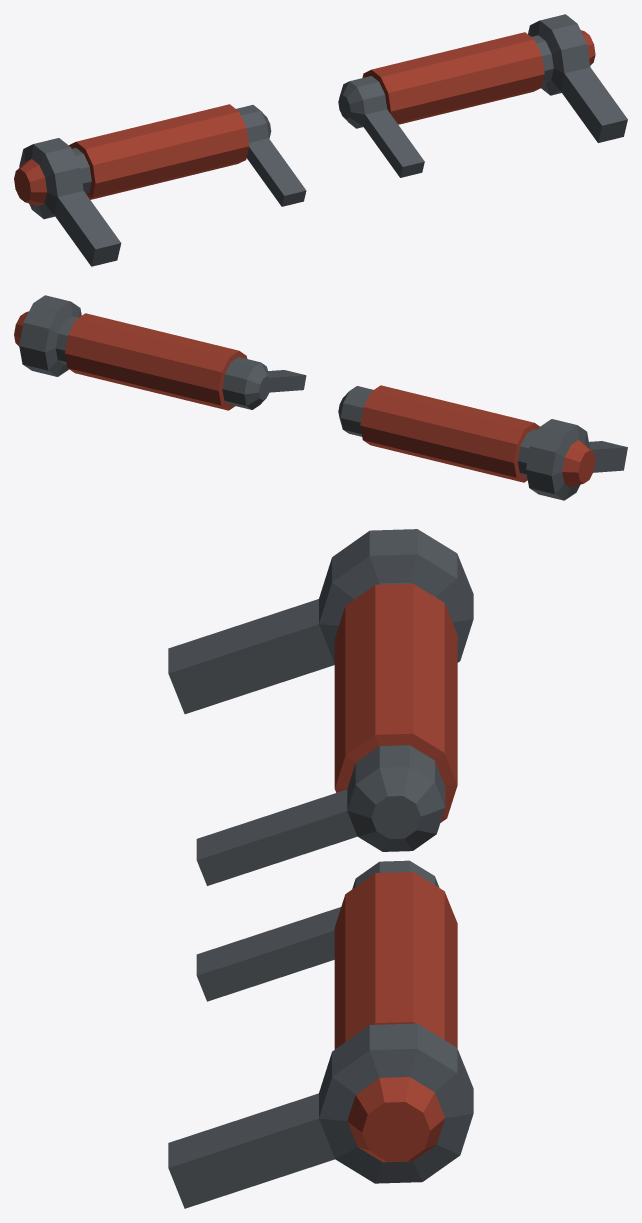
Rendered from Personal_Vehicle_01_Handlebars_Red.fbx.
The picture shows the model from 3 angles, top to bottom: view 1: azimuth 30°, elevation 25°; view 2: azimuth 150°, elevation 25°; view 3: azimuth 270°, elevation 25°; orthographic projection. The views are drawn at different scales.
Visible parts, largest first — view 1: Personal_Vehicle_01_Handlebars_Red; view 2: Personal_Vehicle_01_Handlebars_Red; view 3: Personal_Vehicle_01_Handlebars_Red.
Boxes of the visible parts, box(x1,y1,x2,y2) form: Personal_Vehicle_01_Handlebars_Red: box(14, 14, 627, 266); Personal_Vehicle_01_Handlebars_Red: box(14, 295, 627, 500); Personal_Vehicle_01_Handlebars_Red: box(168, 529, 473, 1208).
Size of the model in its own units: 78.64 by 10.66 by 18.41.
1 material, 1 textured.
